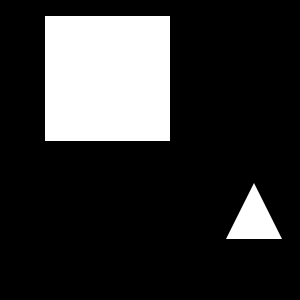circle: (45, 16, 170, 141)
triangle: (226, 183, 282, 239), (74, 69, 129, 124)
